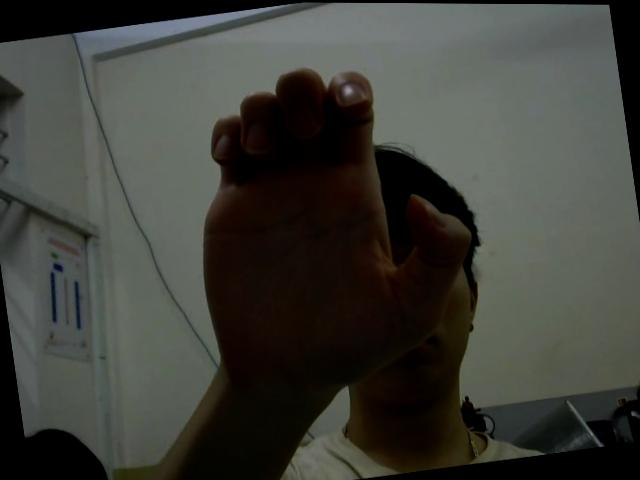E: (172, 46, 488, 395)
